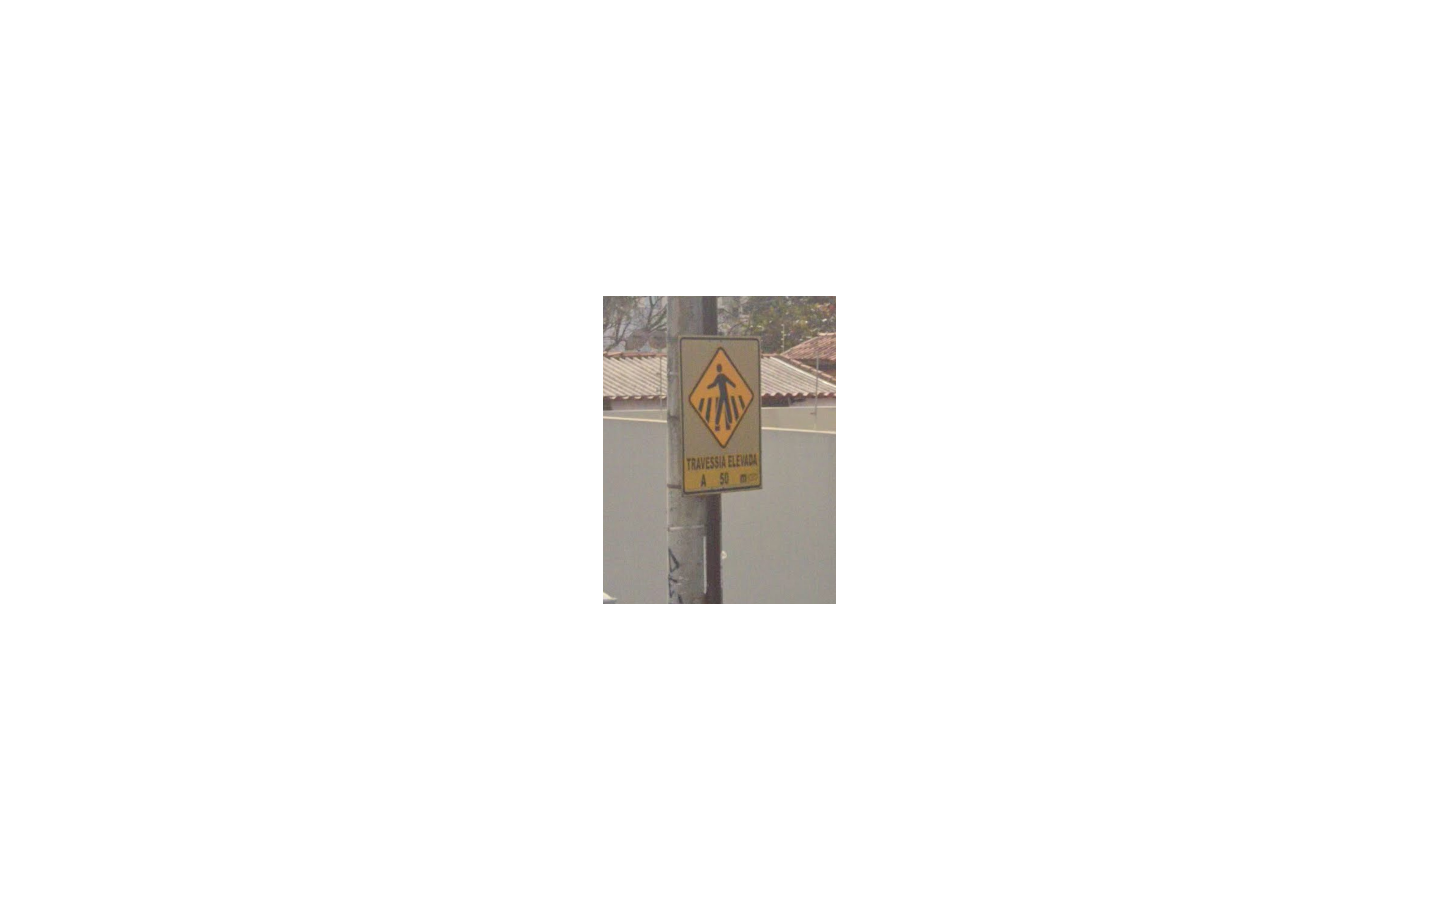t50m: (678, 335, 762, 496)
